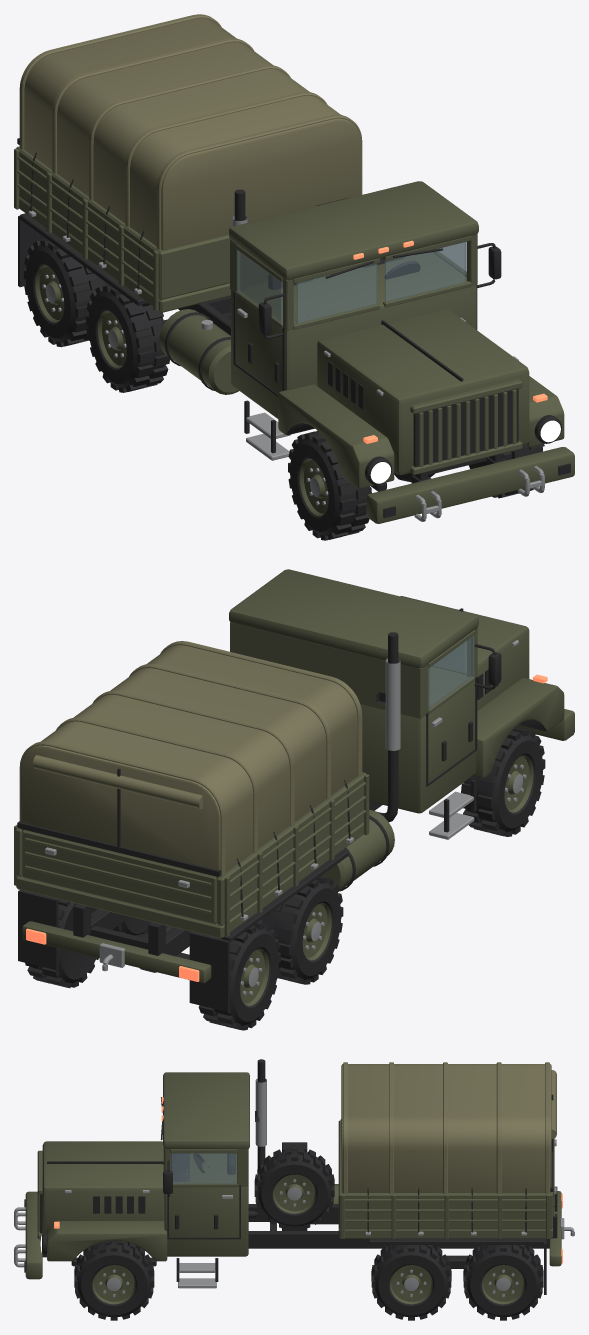
The model's file is MilitaryTruck.fbx.
3 views of the same model, one above another, from view 1: azimuth 30°, elevation 25°; view 2: azimuth 150°, elevation 25°; view 3: azimuth 270°, elevation 25° (orthographic). The views are drawn at different scales.
Parts seen in each view (by area): view 1: MilitaryTruck_Mesh; view 2: MilitaryTruck_Mesh; view 3: MilitaryTruck_Mesh.
Boxes of the visible parts, box(x1,y1,x2,y2) form: MilitaryTruck_Mesh: box(14, 14, 574, 540); MilitaryTruck_Mesh: box(14, 569, 574, 1030); MilitaryTruck_Mesh: box(14, 1059, 574, 1320).
Bounding box in the file's own units: 2.86 × 3.05 × 7.93.
